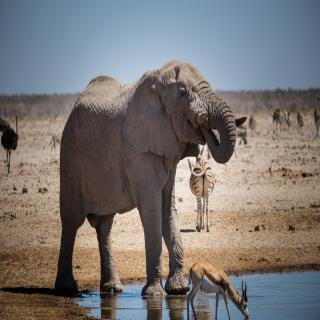Elephant: (49, 55, 241, 306)
